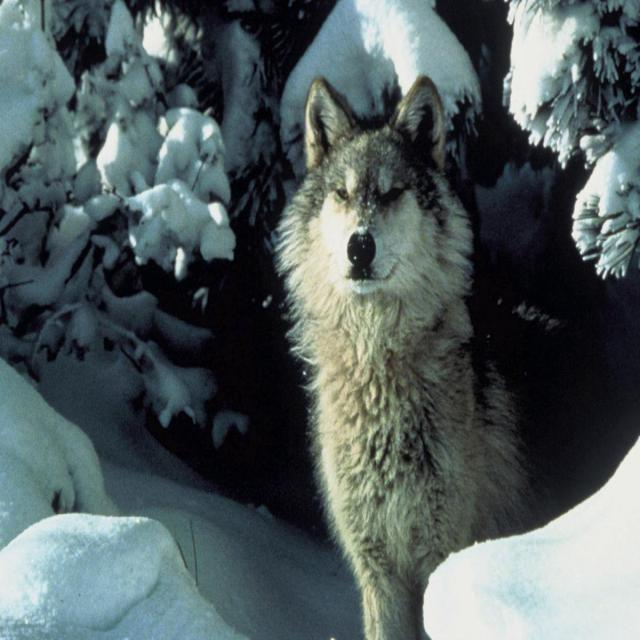Wolf: (272, 71, 638, 638)
